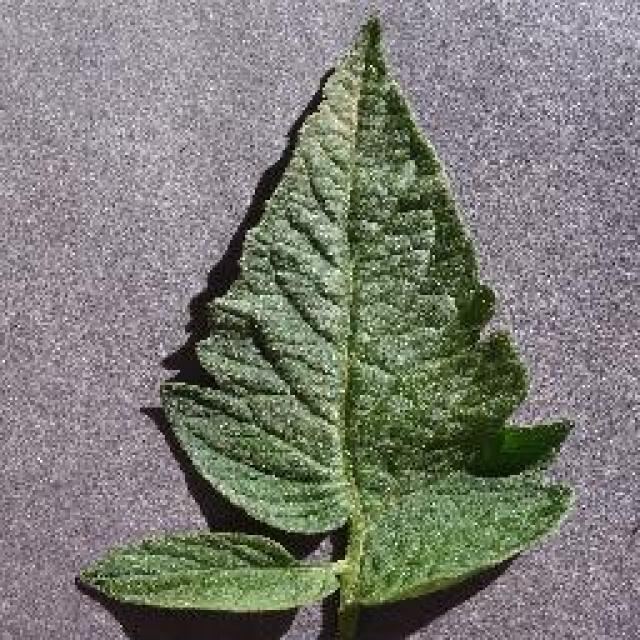Tomato healthy leaf: (169, 16, 569, 622), (74, 538, 344, 630)
